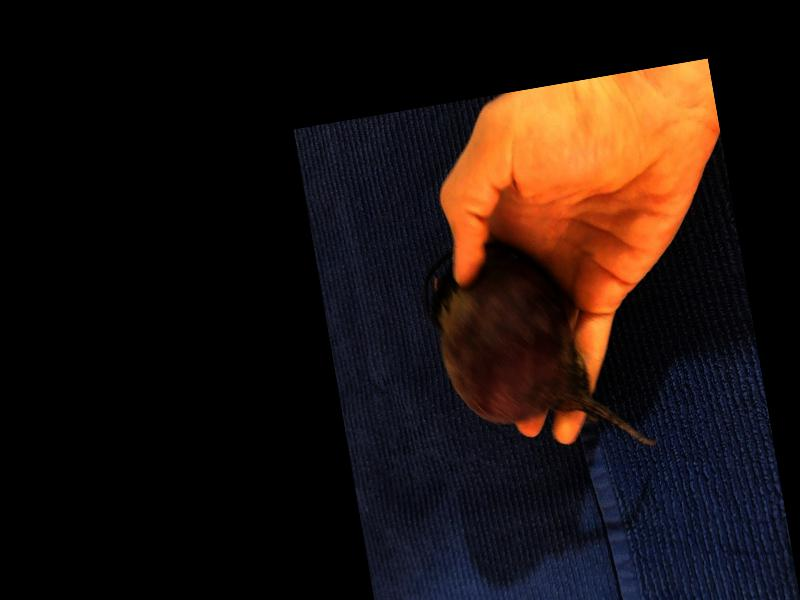Beet: (416, 222, 658, 481)
